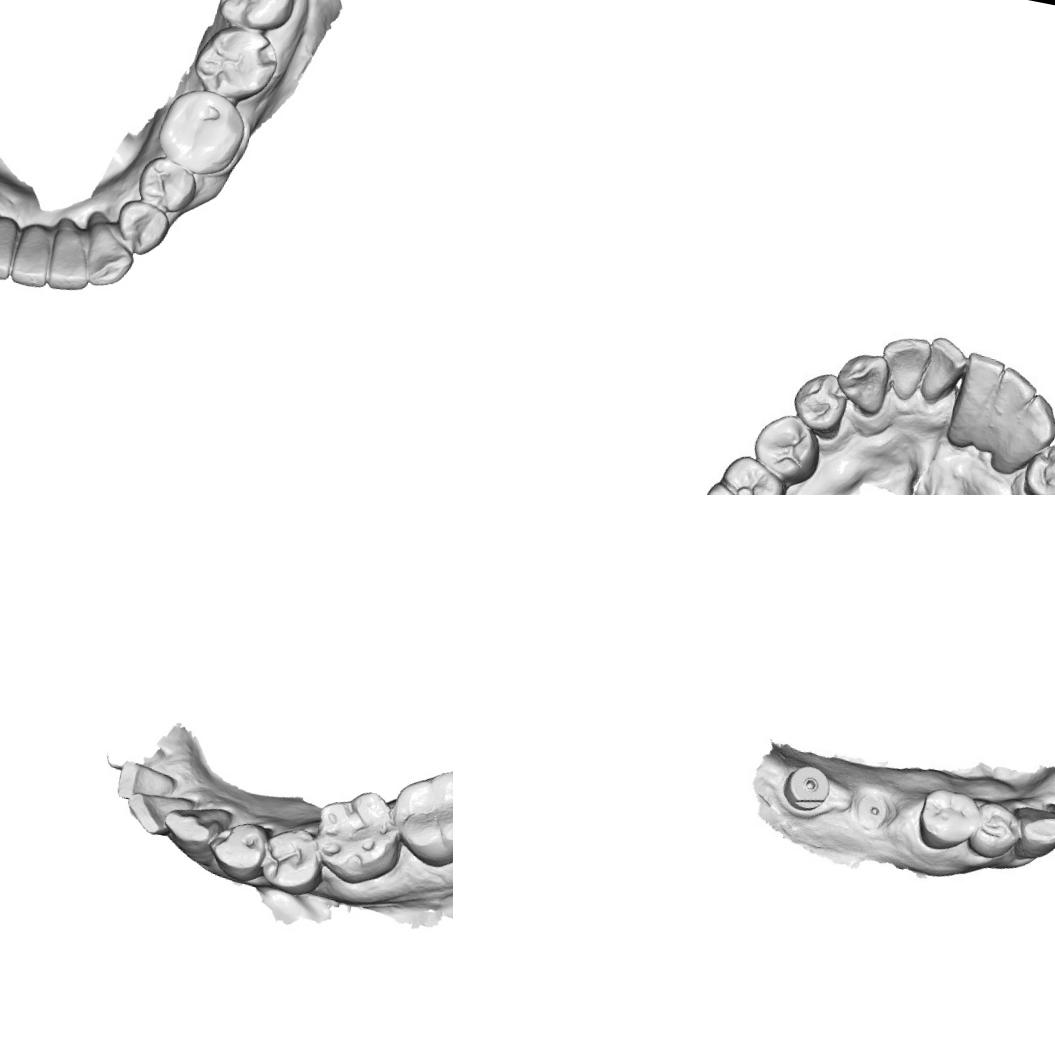canine: (994, 385, 1055, 492), (829, 344, 897, 421), (80, 220, 140, 294), (158, 798, 229, 857), (1006, 800, 1055, 864)
implant: (782, 758, 833, 816), (849, 786, 899, 834)
incisor: (41, 214, 100, 298), (982, 363, 1036, 451), (951, 351, 1003, 441), (6, 218, 60, 292), (110, 757, 175, 808), (120, 787, 184, 838), (880, 334, 928, 400), (920, 335, 966, 398), (0, 213, 22, 283), (1041, 794, 1055, 850)
molar: (306, 780, 410, 892), (150, 82, 251, 179), (187, 18, 281, 108), (383, 759, 453, 874), (699, 454, 783, 495), (210, 0, 302, 36)
premolar: (747, 406, 828, 490), (788, 365, 856, 444), (257, 822, 324, 894), (203, 814, 270, 885), (914, 783, 982, 852), (107, 195, 175, 261), (131, 152, 200, 216), (970, 803, 1021, 857), (1021, 440, 1055, 495)
